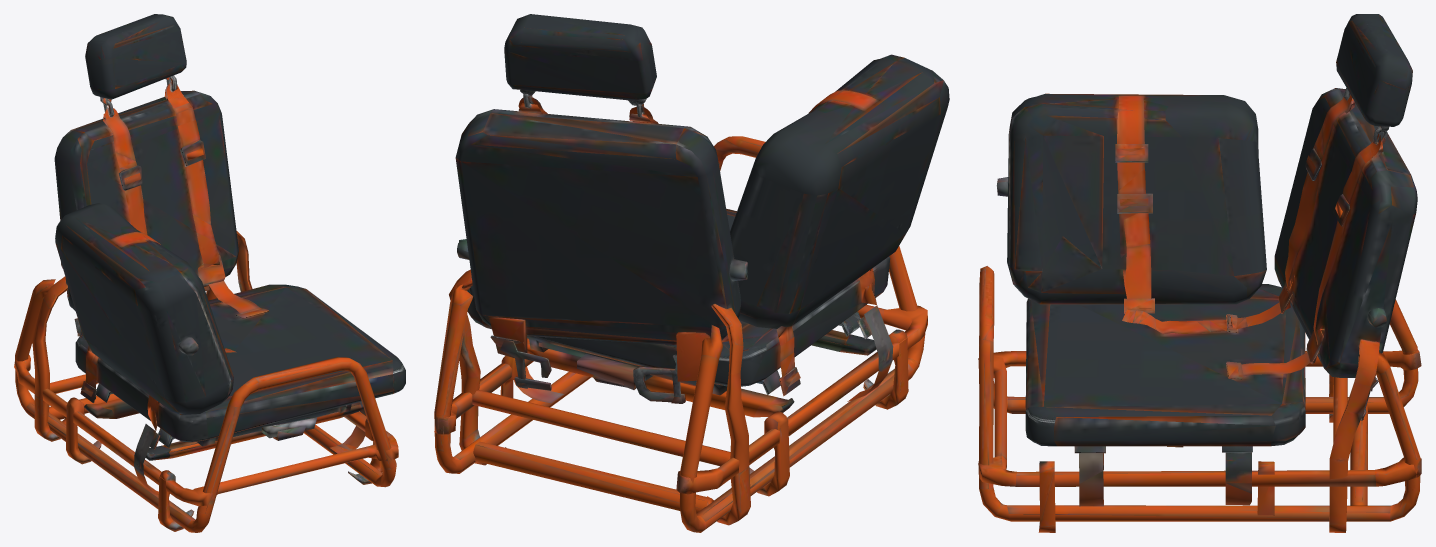
Rendered from p_seat.glb.
3 views of the same model, side by side, from view 1: azimuth 30°, elevation 25°; view 2: azimuth 150°, elevation 25°; view 3: azimuth 270°, elevation 25° (orthographic). The views are drawn at different scales.
Size of the model in its own units: 0.7129 by 0.9526 by 0.8609.
Materials: 1 (1 with a texture image).
